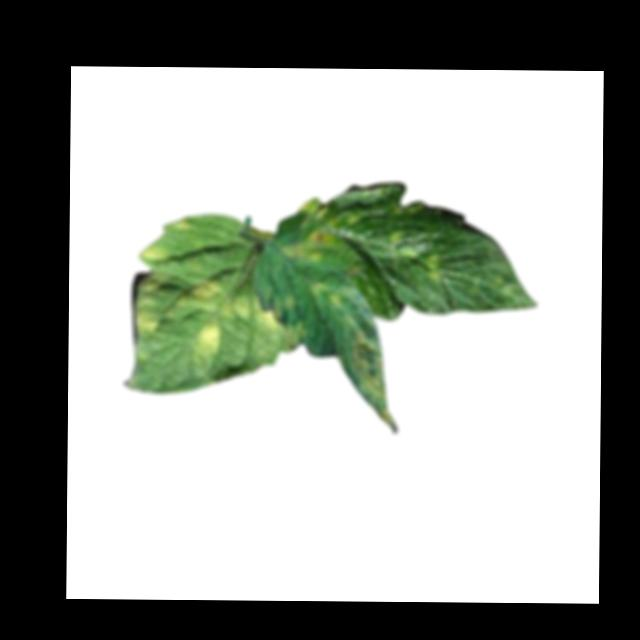Leaf_Mold: (279, 230, 335, 265), (231, 292, 279, 331), (187, 313, 221, 364), (179, 277, 224, 311), (296, 195, 331, 225), (133, 308, 162, 339), (306, 281, 340, 307), (140, 241, 170, 266), (423, 252, 443, 283)
